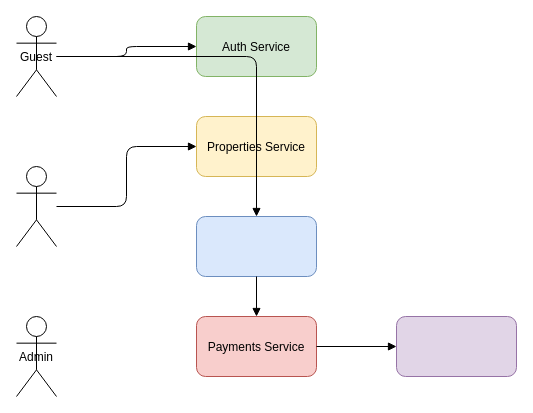
Some shapes in this 533 by 413 pixel diagram are drawn without their labels. The shapes that lost their labels are listed below. From the top down, each one's box as (x1, y1, x2, y2) in pixels, then its label:
(16, 166, 56, 246): Host
(196, 216, 316, 276): Bookings Service
(396, 316, 516, 376): Stripe / PayPal
